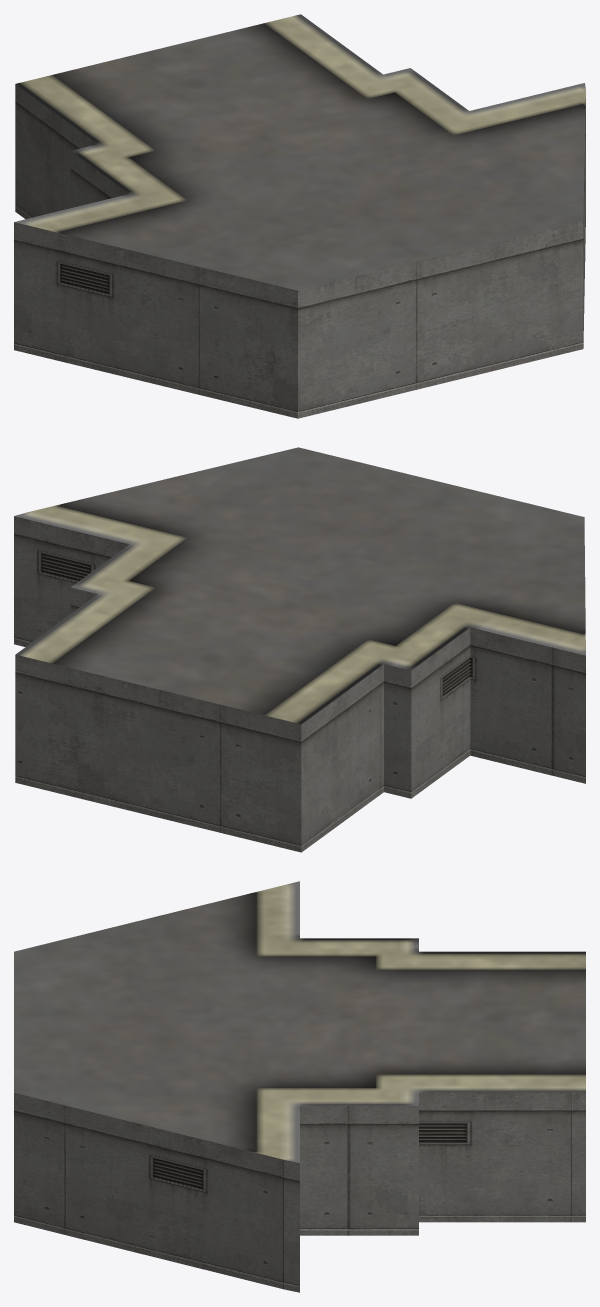
Rendered from building_medium_29.glb.
The picture shows the model from 3 angles, top to bottom: view 1: azimuth 30°, elevation 25°; view 2: azimuth 150°, elevation 25°; view 3: azimuth 270°, elevation 25°; orthographic projection.
Parts seen in each view (by area): view 1: buildings/saxarba/building_medium/building_medium_29; view 2: buildings/saxarba/building_medium/building_medium_29; view 3: buildings/saxarba/building_medium/building_medium_29.
Boxes of the visible parts, <box> form: buildings/saxarba/building_medium/building_medium_29: <box>14,14,585,418</box>; buildings/saxarba/building_medium/building_medium_29: <box>14,447,585,852</box>; buildings/saxarba/building_medium/building_medium_29: <box>14,881,585,1292</box>.
Size of the model in its own units: 84 by 18 by 72.
